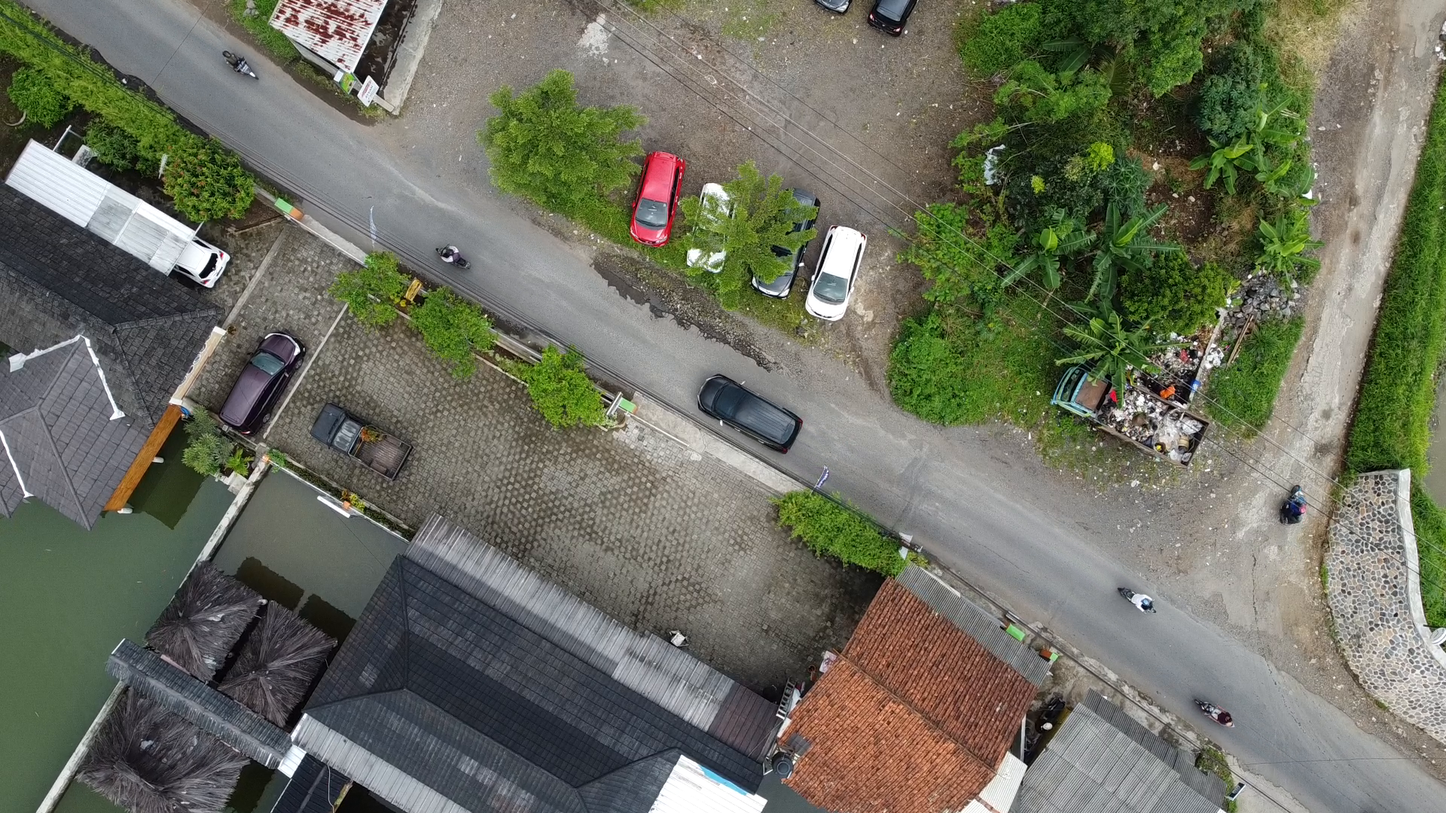mobil: (693, 355, 806, 456), (217, 324, 313, 431), (300, 396, 418, 483), (758, 172, 824, 314), (817, 211, 873, 337), (621, 148, 690, 247), (688, 168, 742, 286), (172, 230, 233, 301)
